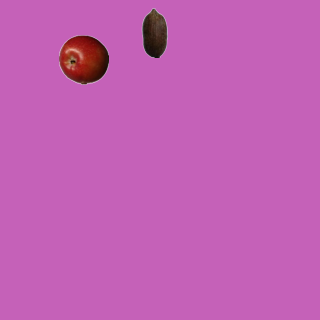Apple Braeburn: (58, 34, 108, 84)
Nut Pecan: (129, 7, 179, 57)
